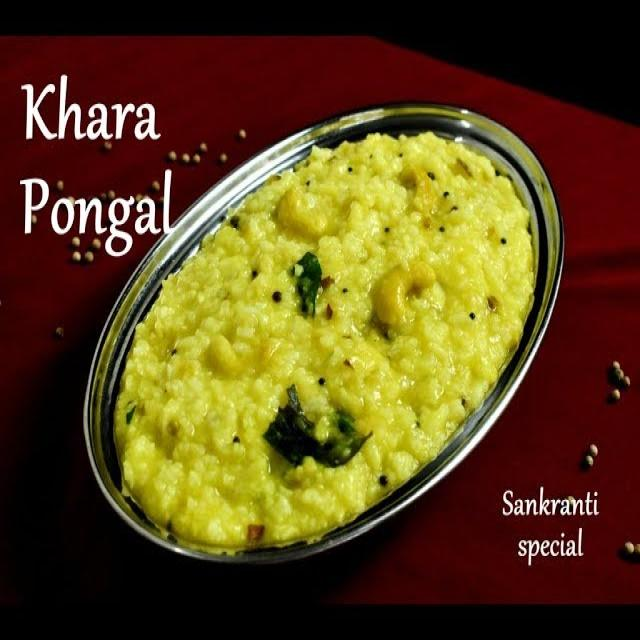khara pongal: (96, 118, 545, 565)
